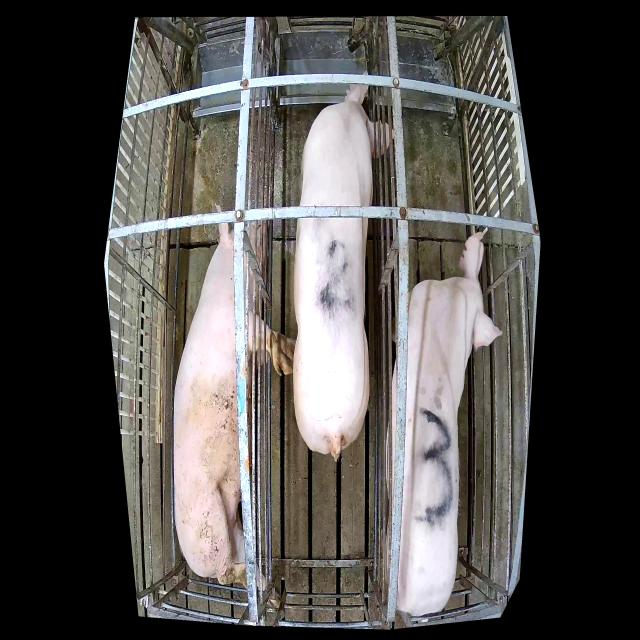pig: (174, 206, 294, 608), (385, 233, 502, 615), (293, 66, 394, 458)
